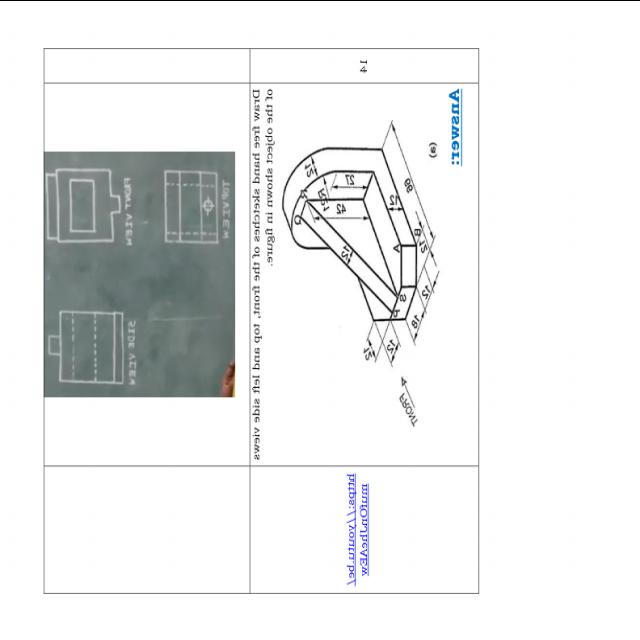Drawings: (277, 94, 449, 444), (44, 154, 232, 396)
